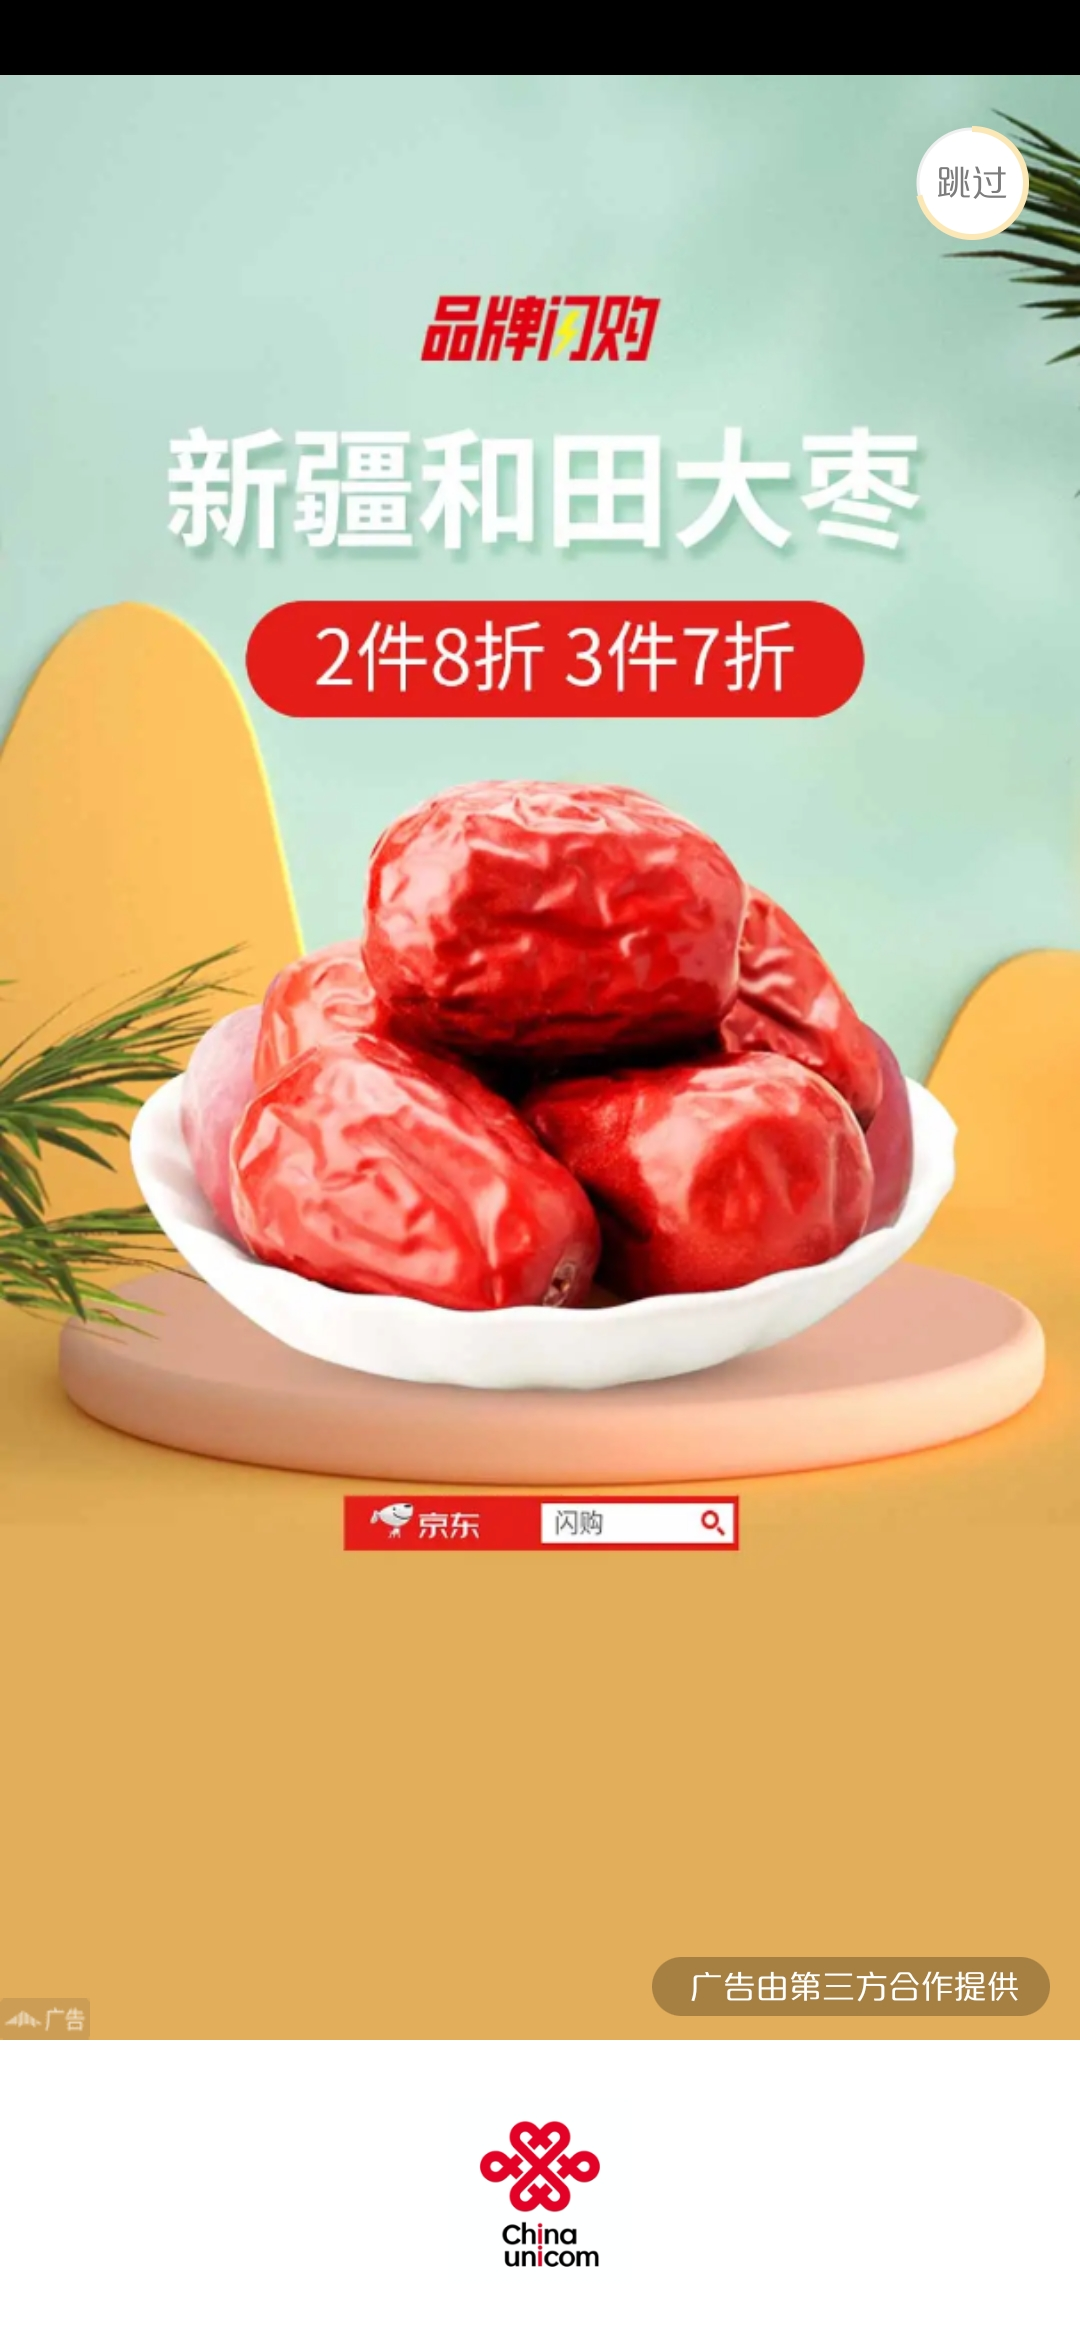skip: (926, 128, 1022, 233)
